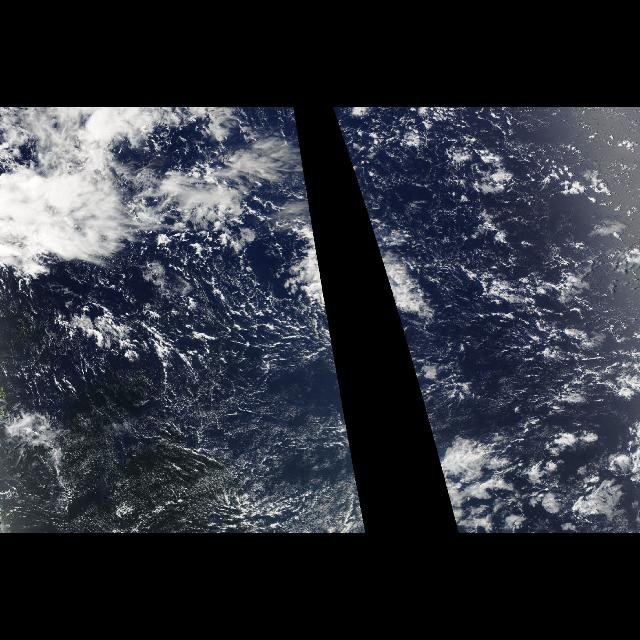Flower: (430, 383, 640, 532)
Gravel: (1, 217, 366, 533), (334, 112, 640, 434)
Sugar: (70, 396, 366, 532)
